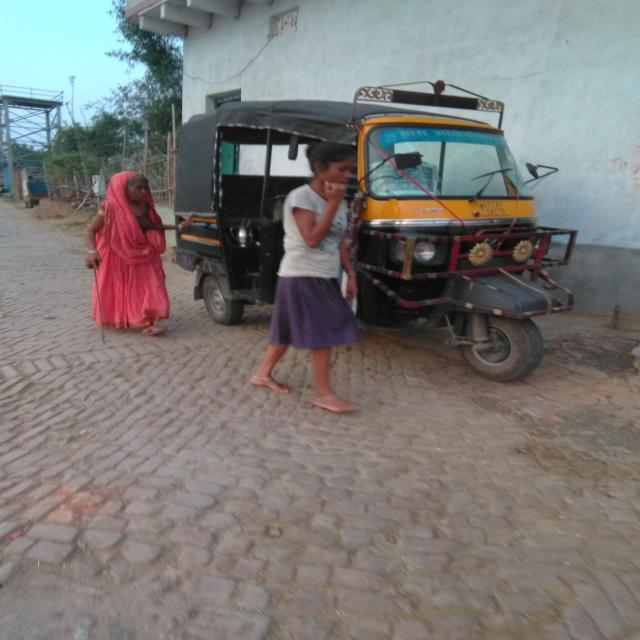Auto: (175, 88, 577, 380)
